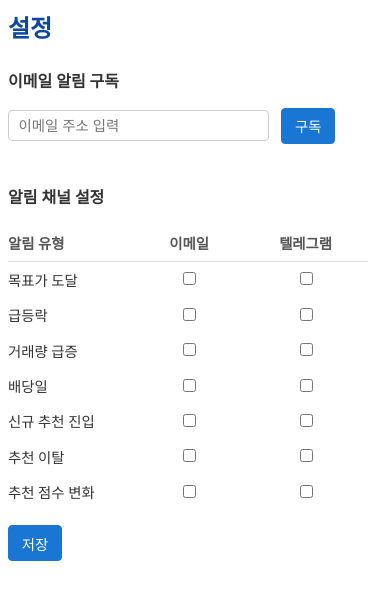
Test: Settings 페이지 › 잘못된 이메일 입력 시 유효성 에러 메시지 표시 (422 시뮬레이션)
The image size is (385, 610).
# 유효한 이메일 형식으로 입력해야 HTML5 기본 유효성 검사 통과
Step 1. Type "bad@example.com" into the field labelled "이메일 주소 입력" → (139, 126), box [8,110,269,141]
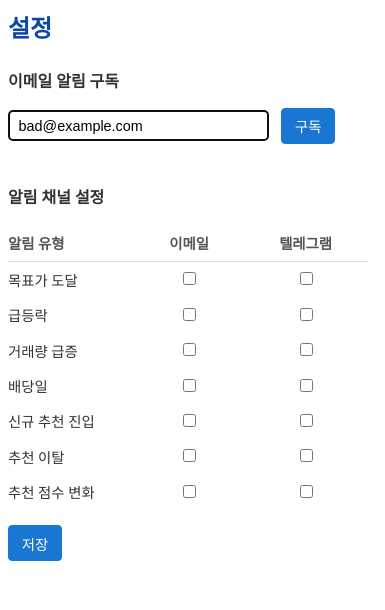
Step 2. Click the button "구독" → (308, 126), box [281,108,335,144]
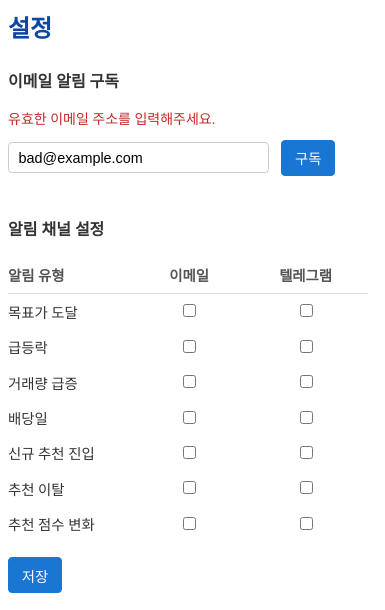
Result: the message reads "유효한 이메일 주소를 입력해주세요." at [8,112,215,127]
